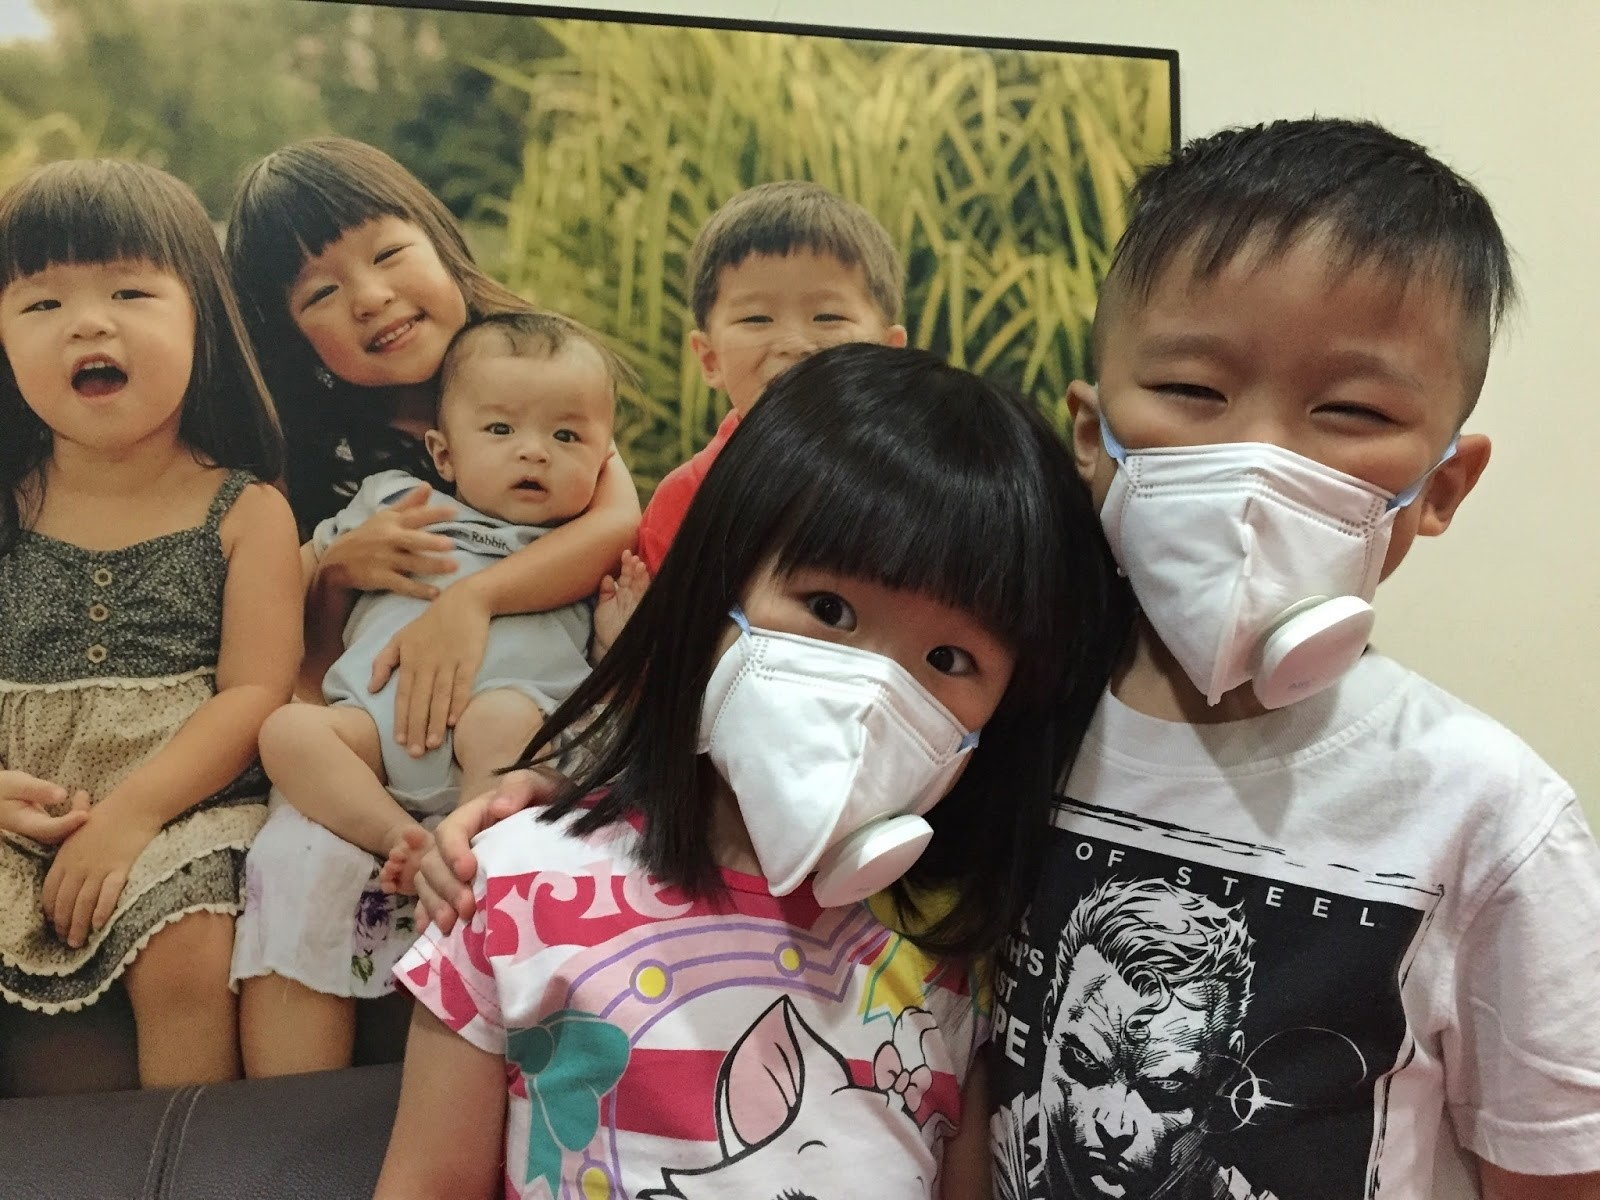face_no_mask: (8, 203, 218, 448), (272, 181, 461, 394), (447, 321, 613, 522)
face_with_mask: (1050, 208, 1492, 739), (660, 408, 1041, 932)
